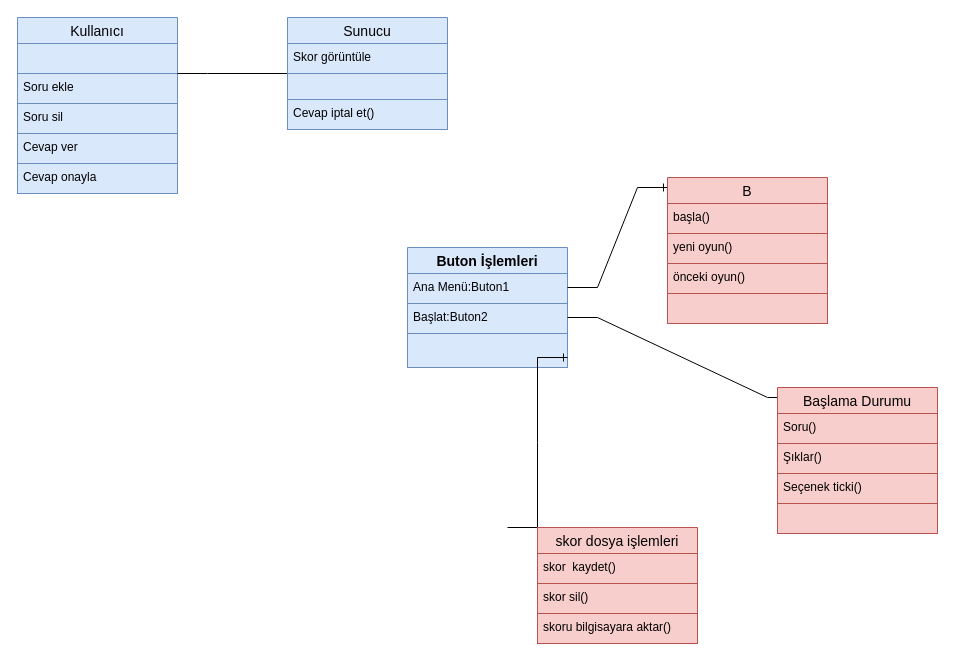
This 955x664 diagram has some shape labels left out. Each missing label, with the centre of its shape:
"Cevap kabul et()" goes at (x=367, y=86).
"İsim" goes at (x=97, y=58).
"Onayla butonu()" goes at (x=857, y=518).
"Skor Tablosu:Buton3" goes at (x=487, y=350).
"yüksek skor()" goes at (x=747, y=308).
